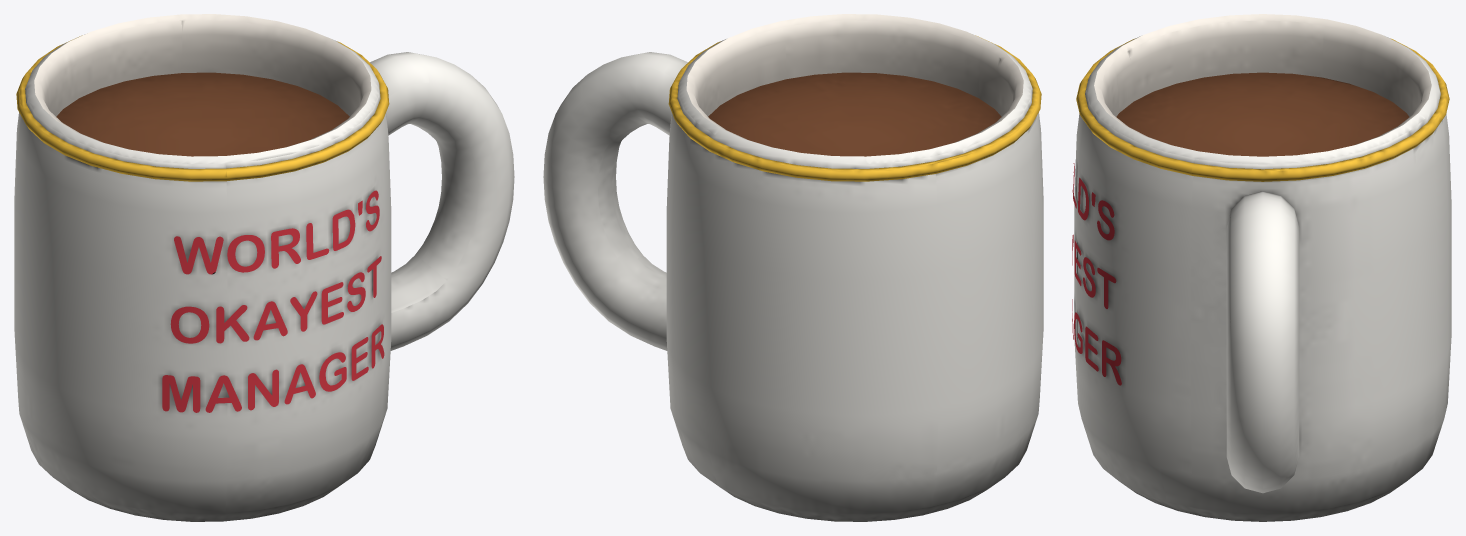
File: mug_manager.glb
The picture shows the model from 3 angles, left to right: view 1: azimuth 30°, elevation 25°; view 2: azimuth 150°, elevation 25°; view 3: azimuth 270°, elevation 25°; orthographic projection.
Visible parts, largest first — view 1: mug_manager; view 2: mug_manager; view 3: mug_manager.
Boxes of the visible parts, <box> form: mug_manager: <box>14,14,514,521</box>; mug_manager: <box>543,14,1043,521</box>; mug_manager: <box>1072,14,1451,521</box>.
Bounding box in the file's own units: 0.1449 × 0.1113 × 0.1013.
5 materials, 5 textured.
